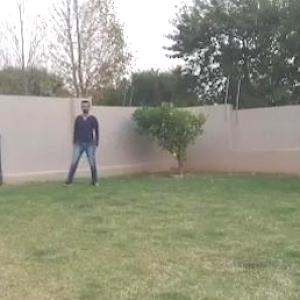follow: (76, 98, 97, 183)
